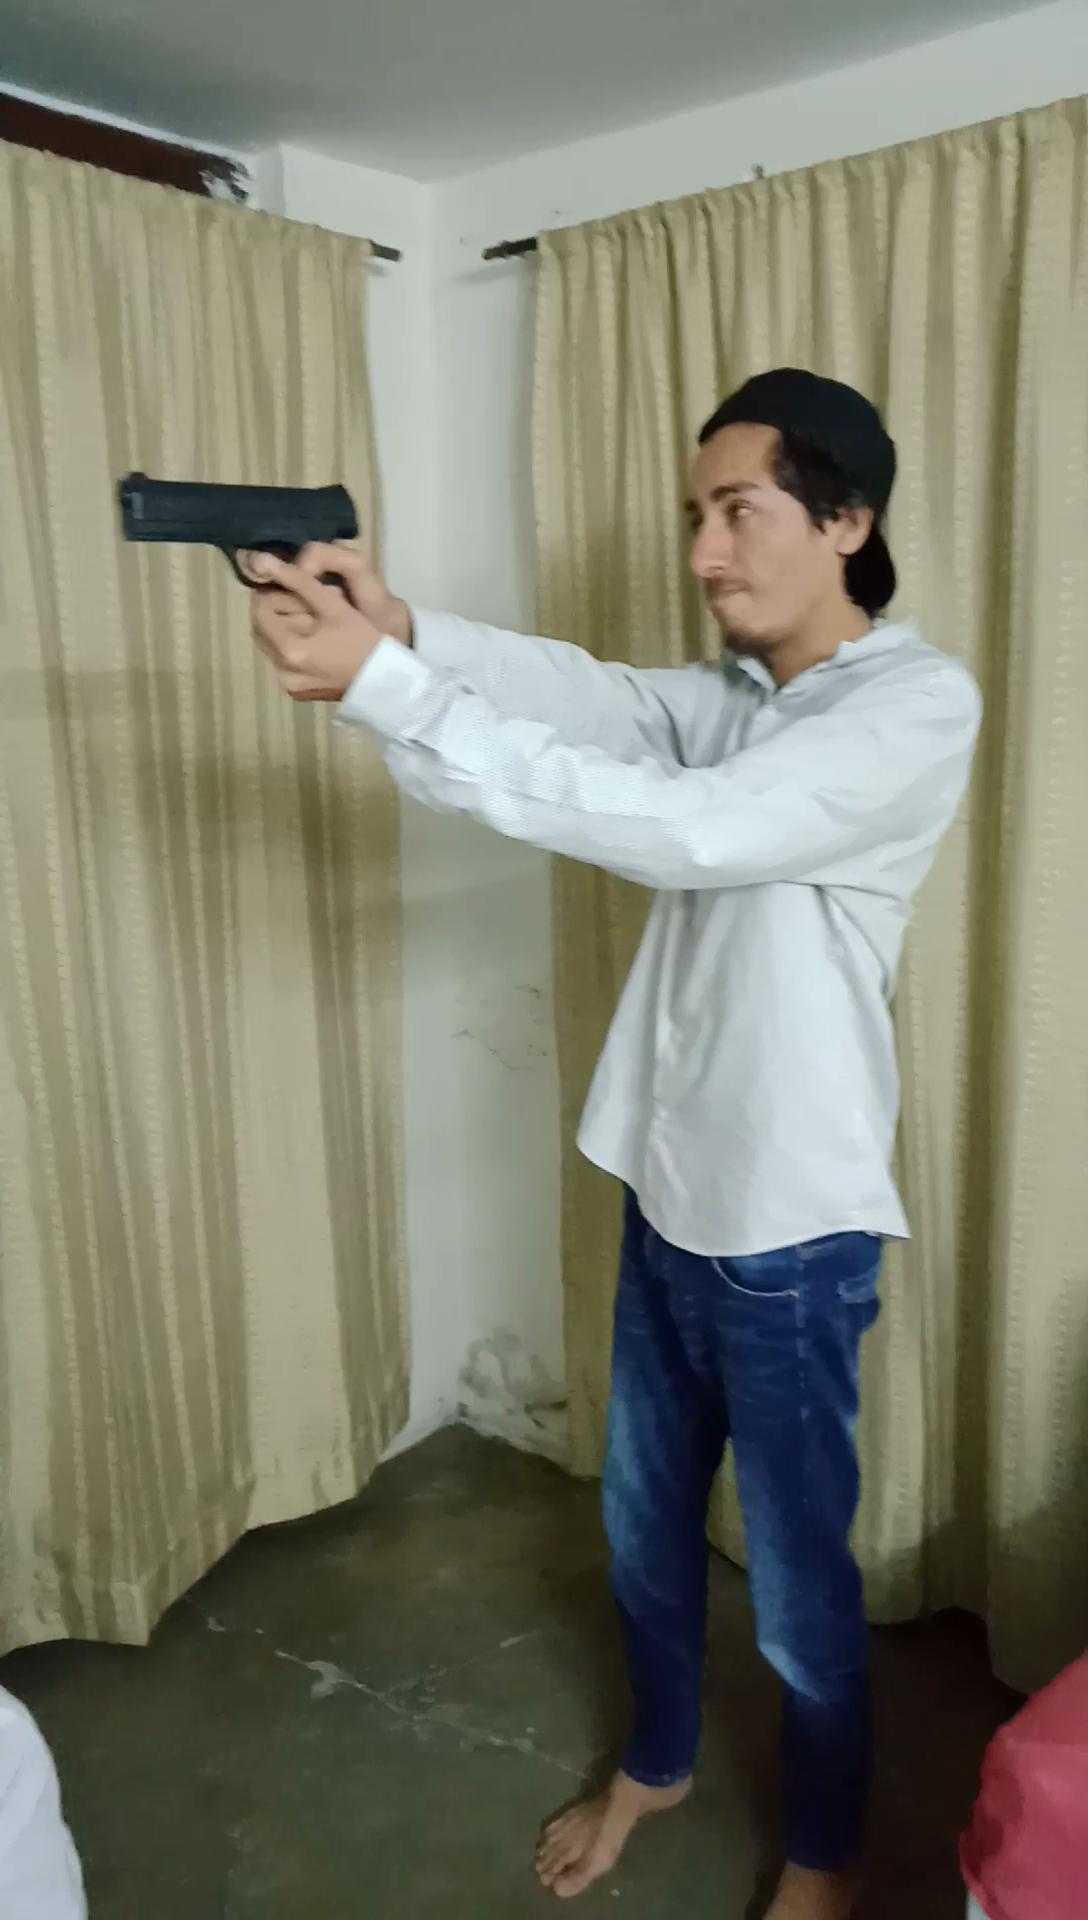criminal: (102, 356, 986, 1920)
weapon: (106, 462, 384, 616)
